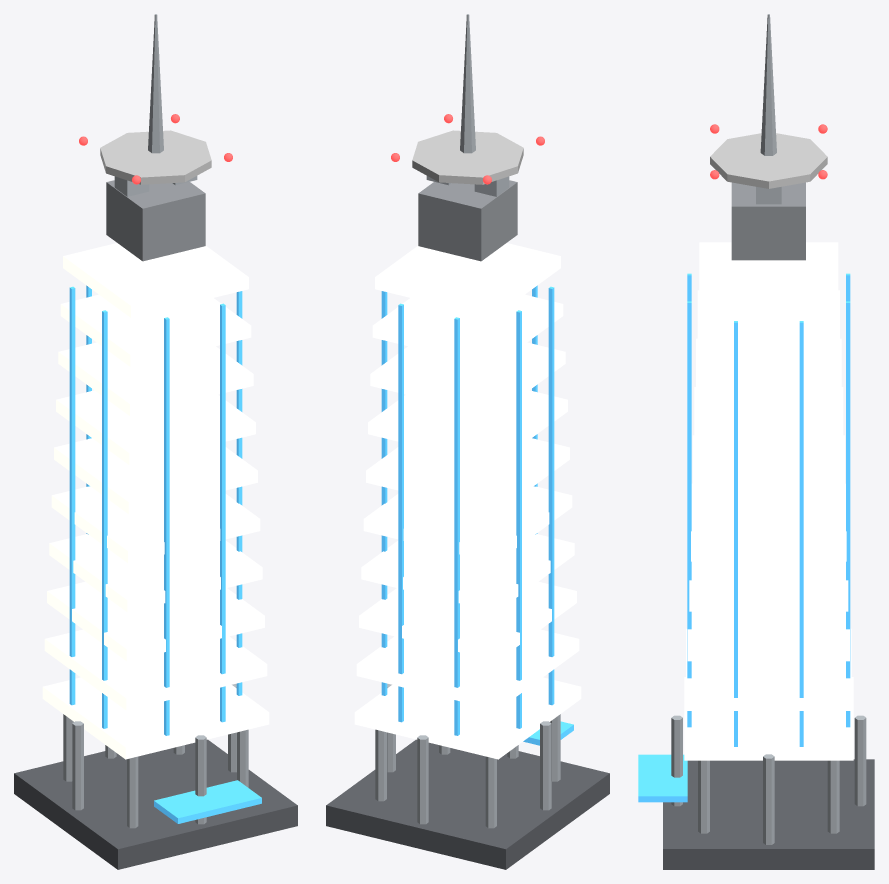
The model's file is financial_tower.glb.
The picture shows the model from 3 angles, left to right: view 1: azimuth 30°, elevation 25°; view 2: azimuth 150°, elevation 25°; view 3: azimuth 270°, elevation 25°; orthographic projection.
Parts seen in each view (by area): view 1: Plaza_Foundation, Floor_Slab_1, Floor_Slab_2, Floor_Slab_10, Floor_Slab_3, Floor_Slab_4, Floor_Slab_5, Floor_Slab_6, Floor_Slab_7, Floor_Slab_8, Floor_Slab_9, Elevator_Penthouse_Core (+13 smaller); view 2: Plaza_Foundation, Floor_Slab_1, Floor_Slab_2, Floor_Slab_10, Floor_Slab_3, Floor_Slab_4, Floor_Slab_5, Floor_Slab_6, Floor_Slab_7, Floor_Slab_8, Floor_Slab_9, Elevator_Penthouse_Core (+12 smaller); view 3: Plaza_Foundation, Floor_Slab_10, Floor_Slab_1, Floor_Slab_2, Floor_Slab_3, Floor_Slab_4, Floor_Slab_5, Floor_Slab_6, Floor_Slab_7, Floor_Slab_8, Floor_Slab_9, Elevator_Penthouse_Core (+12 smaller).
Boxes of the visible parts, bbox=[...] form: Plaza_Foundation: bbox=[14, 739, 297, 869]; Floor_Slab_1: bbox=[42, 677, 269, 759]; Floor_Slab_2: bbox=[44, 629, 267, 710]; Floor_Slab_10: bbox=[63, 243, 248, 317]; Floor_Slab_3: bbox=[47, 581, 264, 661]; Floor_Slab_4: bbox=[49, 534, 262, 612]; Floor_Slab_5: bbox=[51, 486, 260, 563]; Floor_Slab_6: bbox=[54, 438, 257, 514]; Floor_Slab_7: bbox=[56, 390, 255, 464]; Floor_Slab_8: bbox=[58, 342, 253, 415]; Floor_Slab_9: bbox=[60, 294, 251, 366]; Elevator_Penthouse_Core: bbox=[106, 180, 205, 261]; Plaza_Foundation: bbox=[326, 739, 609, 869]; Floor_Slab_1: bbox=[354, 677, 581, 759]; Floor_Slab_2: bbox=[356, 629, 579, 710]; Floor_Slab_10: bbox=[375, 243, 560, 317]; Floor_Slab_3: bbox=[359, 581, 576, 661]; Floor_Slab_4: bbox=[361, 534, 574, 612]; Floor_Slab_5: bbox=[363, 486, 572, 563]; Floor_Slab_6: bbox=[366, 438, 569, 514]; Floor_Slab_7: bbox=[368, 390, 567, 464]; Floor_Slab_8: bbox=[370, 342, 565, 415]; Floor_Slab_9: bbox=[372, 294, 563, 366]; Elevator_Penthouse_Core: bbox=[418, 180, 517, 261]; Plaza_Foundation: bbox=[663, 759, 874, 869]; Floor_Slab_10: bbox=[699, 242, 838, 312]; Floor_Slab_1: bbox=[684, 677, 853, 760]; Floor_Slab_2: bbox=[686, 628, 851, 710]; Floor_Slab_3: bbox=[687, 611, 849, 661]; Floor_Slab_4: bbox=[689, 561, 848, 611]; Floor_Slab_5: bbox=[691, 483, 846, 561]; Floor_Slab_6: bbox=[692, 435, 844, 511]; Floor_Slab_7: bbox=[694, 387, 843, 462]; Floor_Slab_8: bbox=[696, 338, 841, 412]; Floor_Slab_9: bbox=[697, 290, 839, 362]; Elevator_Penthouse_Core: bbox=[731, 182, 805, 260].
Bounding box in the file's own units: 9 × 38.04 × 10.05.
